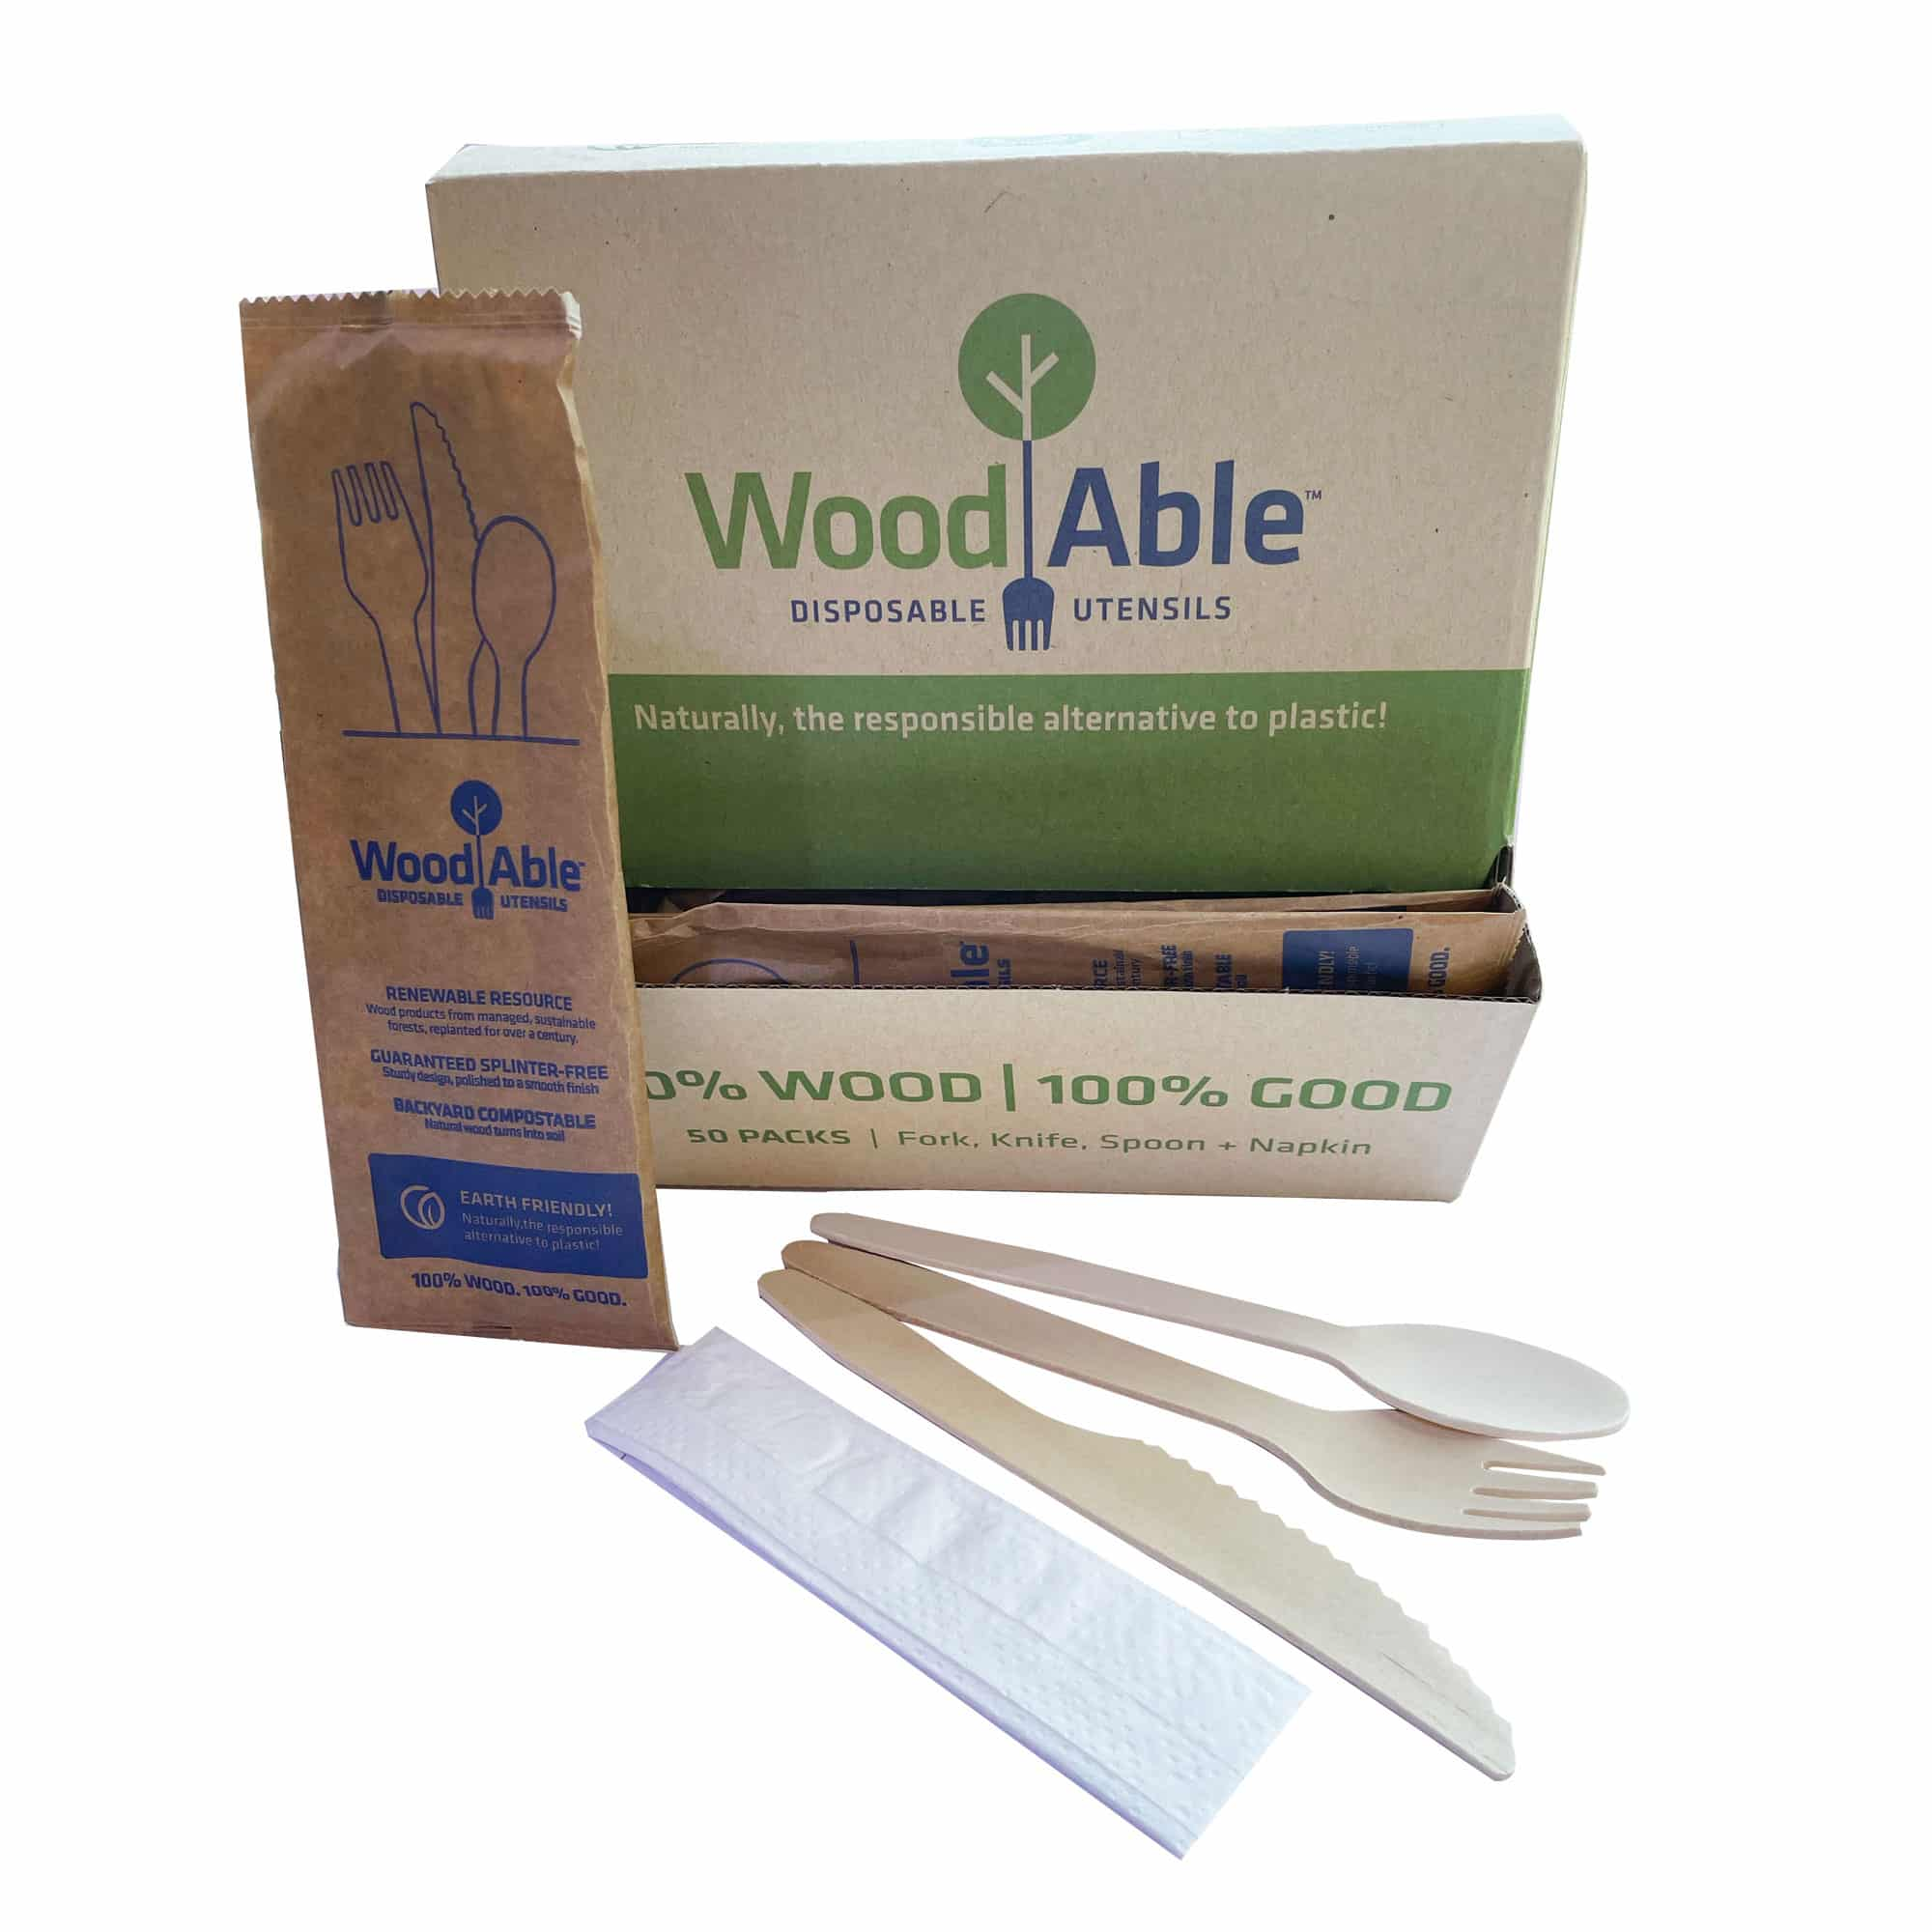Wooden Utensils: (759, 1159, 1661, 1798)
